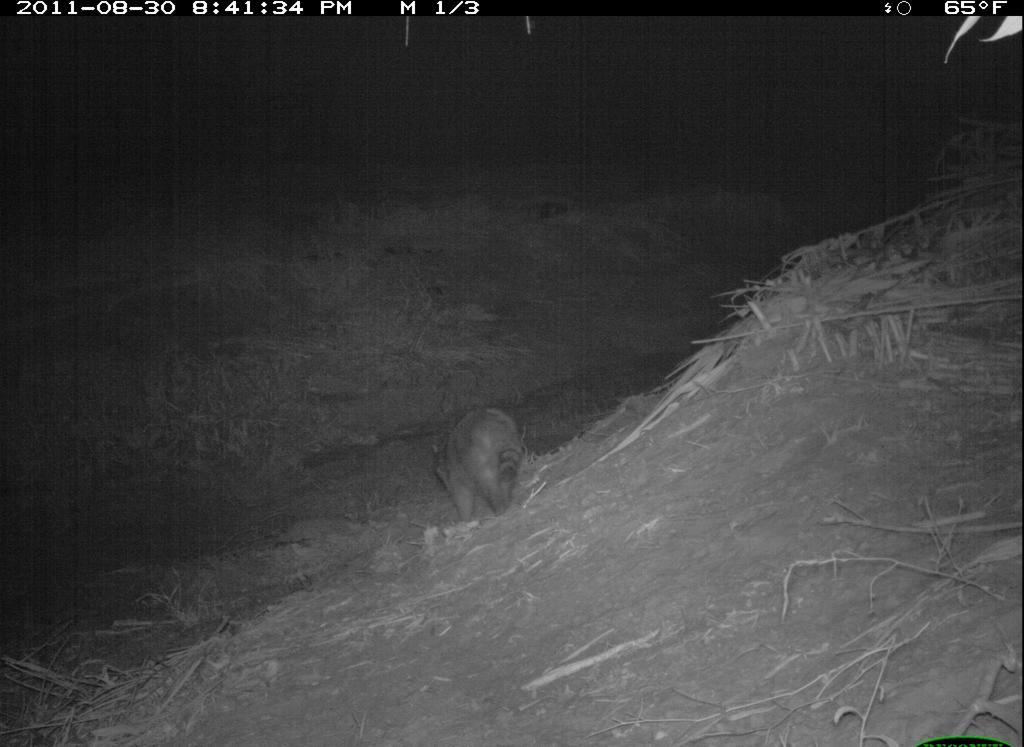raccoon: (427, 400, 529, 528)
